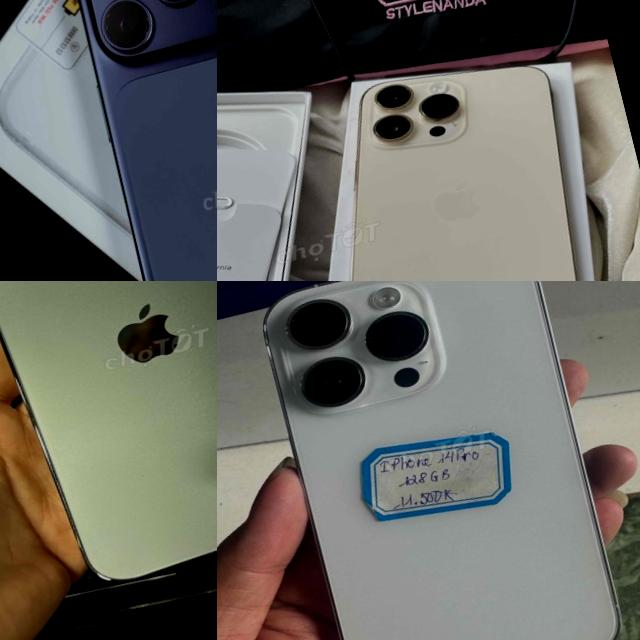gen_12_13: (0, 281, 217, 611)
gen_14: (234, 281, 640, 640), (276, 34, 624, 281)
gen_17: (45, 0, 217, 281)
